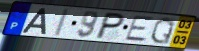9: (76, 10, 99, 39)
A: (21, 7, 47, 35)
E: (123, 16, 157, 43)
I: (51, 7, 71, 38)
P: (93, 11, 127, 40)
Q: (149, 16, 176, 46)
